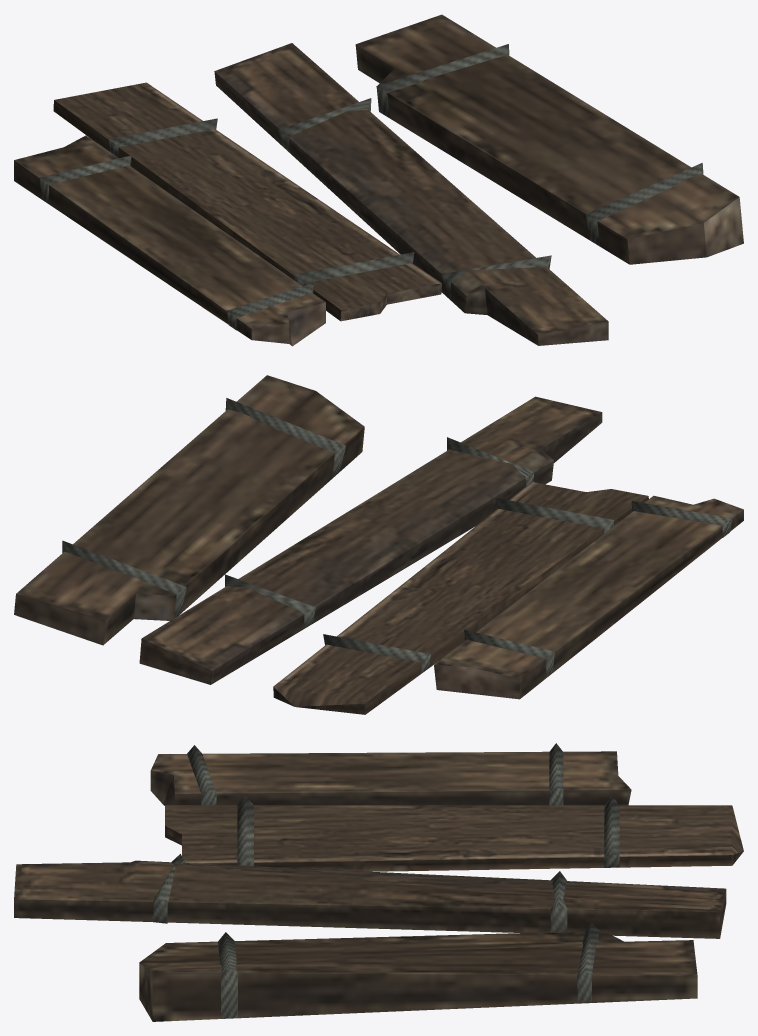
File: mutou04.FBX
3 views of the same model, one above another, from view 1: azimuth 30°, elevation 25°; view 2: azimuth 150°, elevation 25°; view 3: azimuth 270°, elevation 25° (orthographic).
Parts seen in each view (by area): view 1: polySurface1257; view 2: polySurface1257; view 3: polySurface1257.
Boxes of the visible parts, <box> form: polySurface1257: <box>14,14,743,346</box>; polySurface1257: <box>14,375,743,714</box>; polySurface1257: <box>14,743,743,1021</box>.
Bounding box in the file's own units: 22.97 × 2.4 × 29.39.
